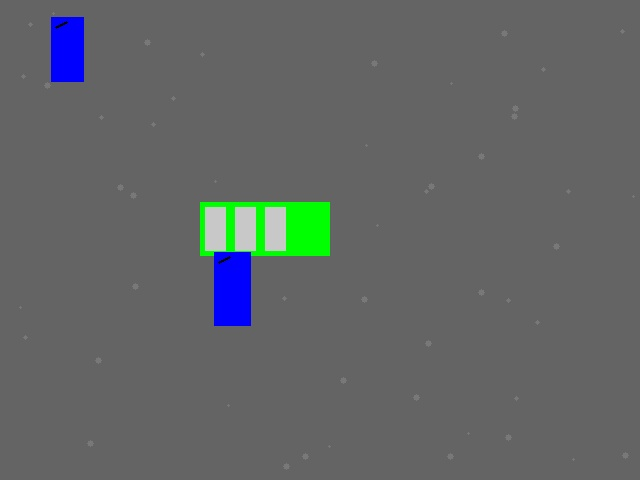bus: (200, 202, 329, 255)
motorcycle: (214, 252, 250, 325), (51, 17, 83, 81)
